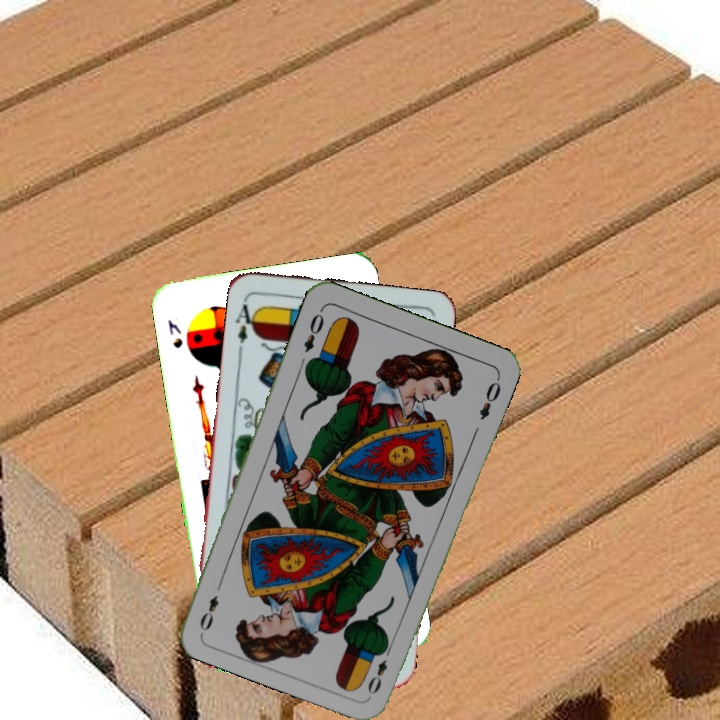EA: (232, 294, 261, 354)
EO: (363, 641, 395, 697), (299, 305, 327, 355)
SK: (164, 316, 186, 351)
